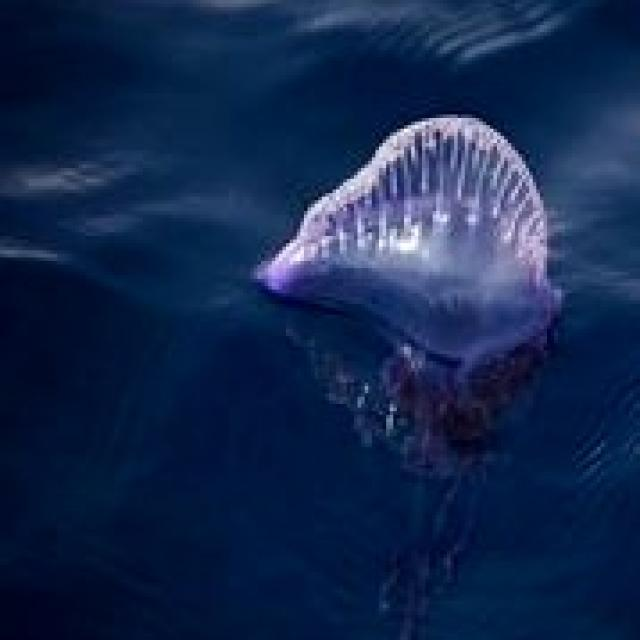Jellyfish: (250, 111, 565, 636)
